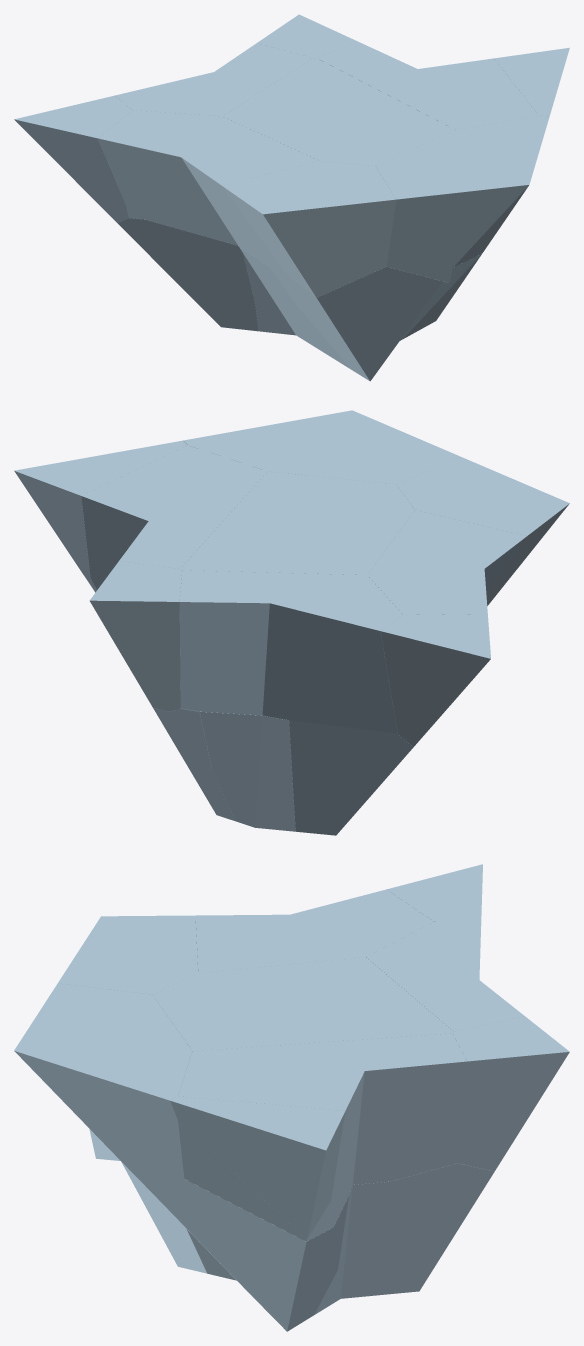
File: PlataformaQuebrada.fbx
The picture shows the model from 3 angles, top to bottom: view 1: azimuth 30°, elevation 25°; view 2: azimuth 150°, elevation 25°; view 3: azimuth 270°, elevation 25°; orthographic projection. The views are drawn at different scales.
Visible parts, largest first — view 1: Circle.011_cell.012, Circle.011_cell.013, Circle.011_cell.017, Circle.011_cell.009, Circle.011_cell.011, Circle.011_cell, Circle.011_cell.001, Circle.011_cell.015, Circle.011_cell.010, Circle.011_cell.007, Circle.011_cell.016, Circle.011_cell.014 (+2 smaller); view 2: Circle.011_cell.010, Circle.011_cell.009, Circle.011_cell.011, Circle.011_cell.012, Circle.011_cell.013, Circle.011_cell.015, Circle.011_cell.001, Circle.011_cell.014, Circle.011_cell.017, Circle.011_cell.005, Circle.011_cell.016, Circle.011_cell.004; view 3: Circle.011_cell.011, Circle.011_cell.012, Circle.011_cell.009, Circle.011_cell.016, Circle.011_cell.002, Circle.011_cell.013, Circle.011_cell.014, Circle.011_cell.010, Circle.011_cell.004, Circle.011_cell.017, Circle.011_cell.003, Circle.011_cell.015 (+2 smaller).
Boxes of the visible parts, <box> form: Circle.011_cell.012: <box>375,115,549,282</box>; Circle.011_cell.013: <box>98,110,319,273</box>; Circle.011_cell.017: <box>222,161,395,297</box>; Circle.011_cell.009: <box>222,58,455,165</box>; Circle.011_cell.011: <box>317,42,538,129</box>; Circle.011_cell: <box>271,257,474,381</box>; Circle.011_cell.001: <box>117,218,258,331</box>; Circle.011_cell.015: <box>14,96,132,222</box>; Circle.011_cell.010: <box>114,43,312,116</box>; Circle.011_cell.007: <box>241,248,322,351</box>; Circle.011_cell.016: <box>494,47,569,116</box>; Circle.011_cell.014: <box>257,14,357,58</box>; Circle.011_cell.010: <box>179,570,402,733</box>; Circle.011_cell.009: <box>180,471,414,574</box>; Circle.011_cell.011: <box>81,445,267,589</box>; Circle.011_cell.012: <box>183,410,460,483</box>; Circle.011_cell.013: <box>367,510,526,614</box>; Circle.011_cell.015: <box>380,614,490,746</box>; Circle.011_cell.001: <box>289,720,413,835</box>; Circle.011_cell.014: <box>89,561,182,711</box>; Circle.011_cell.017: <box>396,457,569,605</box>; Circle.011_cell.005: <box>199,711,295,831</box>; Circle.011_cell.016: <box>14,440,187,592</box>; Circle.011_cell.004: <box>153,708,235,821</box>; Circle.011_cell.011: <box>178,1033,467,1241</box>; Circle.011_cell.012: <box>14,983,192,1190</box>; Circle.011_cell.009: <box>152,957,453,1051</box>; Circle.011_cell.016: <box>170,1096,345,1238</box>; Circle.011_cell.002: <box>151,1179,348,1331</box>; Circle.011_cell.013: <box>195,889,433,973</box>; Circle.011_cell.014: <box>452,1016,569,1171</box>; Circle.011_cell.010: <box>366,922,524,1031</box>; Circle.011_cell.004: <box>380,1163,494,1294</box>; Circle.011_cell.017: <box>57,915,198,994</box>; Circle.011_cell.003: <box>314,1181,390,1314</box>; Circle.011_cell.015: <box>387,864,482,921</box>.
Size of the model in its own units: 1441 by 631 by 1182.
